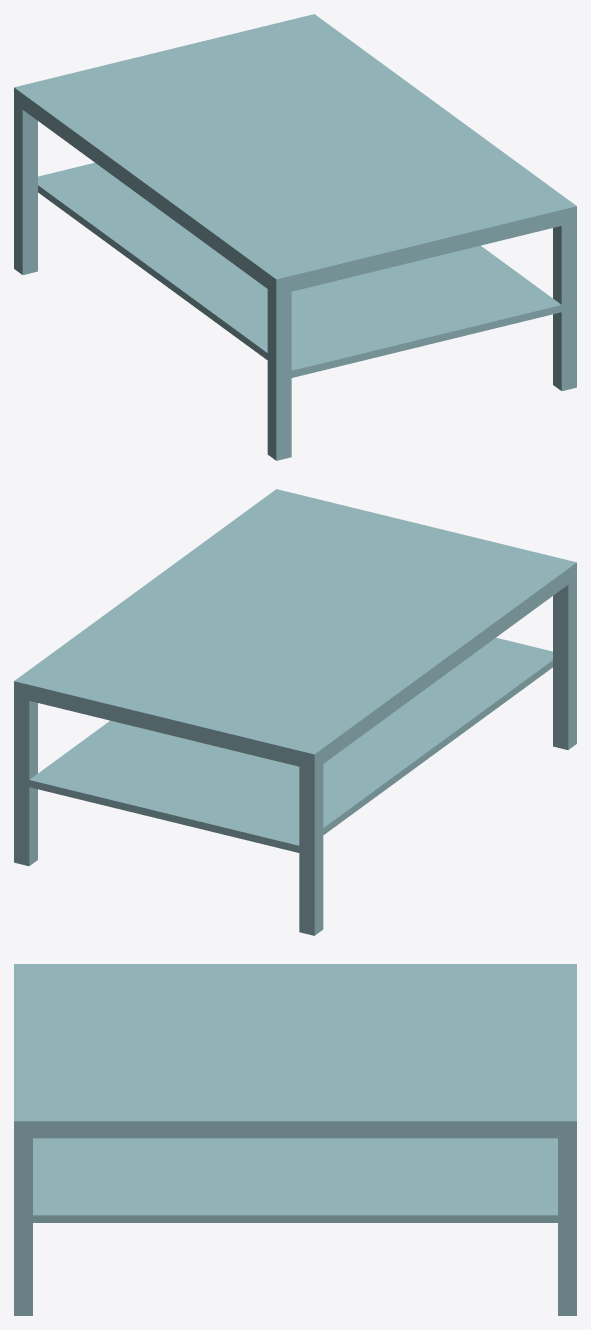
The model's file is lack_table_1_obj0_object.obj.
3 renders of one model, top to bottom at view 1: azimuth 30°, elevation 25°; view 2: azimuth 150°, elevation 25°; view 3: azimuth 270°, elevation 25°, orthographic. The views are drawn at different scales.
Visible parts, largest first — view 1: Mesh1 Group1 Model; view 2: Mesh1 Group1 Model; view 3: Mesh1 Group1 Model.
Part boxes in pixels (left/top/right/bottom): Mesh1 Group1 Model: left=14, top=14, right=576, bottom=460; Mesh1 Group1 Model: left=14, top=489, right=576, bottom=935; Mesh1 Group1 Model: left=14, top=964, right=576, bottom=1315.
Size of the model in its own units: 30.71 by 17.72 by 46.46.
